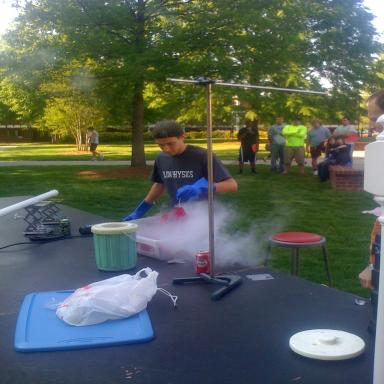plasticbag: (53, 266, 158, 326)
